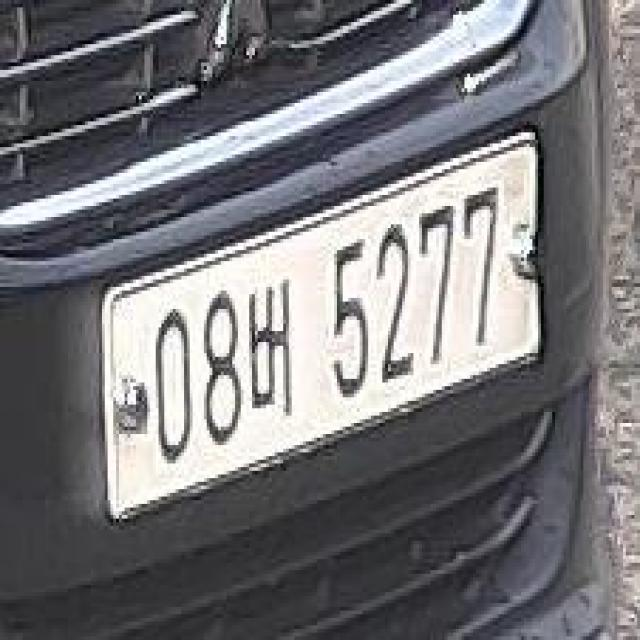illegal_plate: (96, 130, 550, 541)
